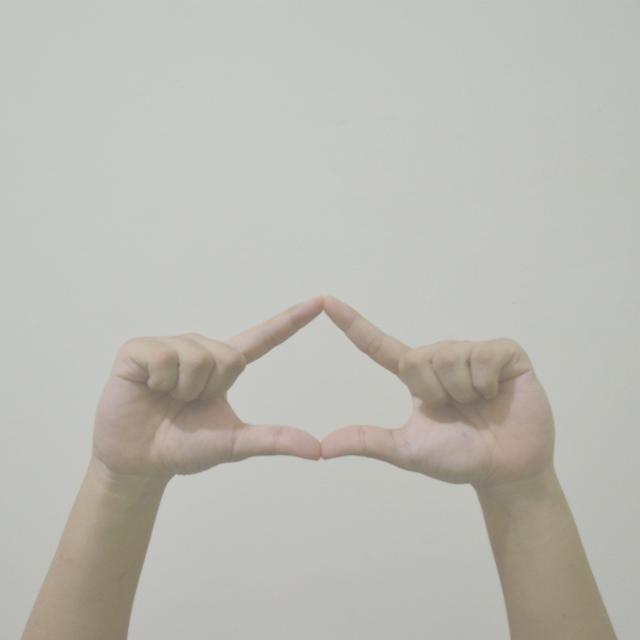A: (89, 286, 561, 494)
